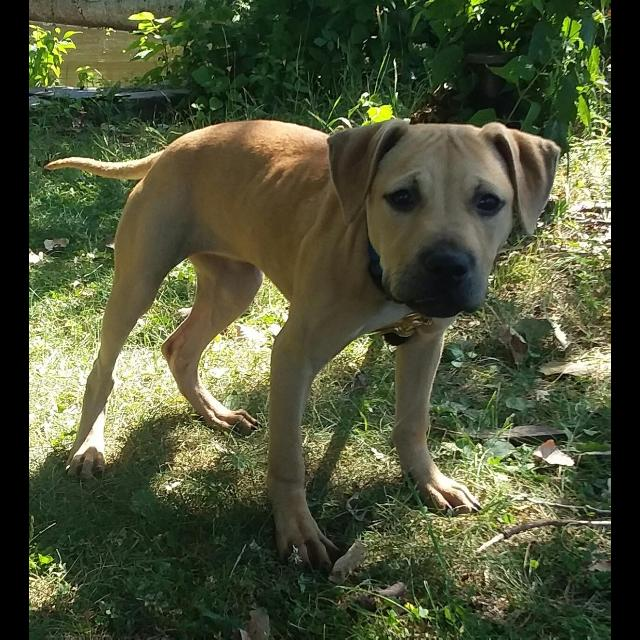am_pit_bull_terrier: (44, 117, 564, 582)
